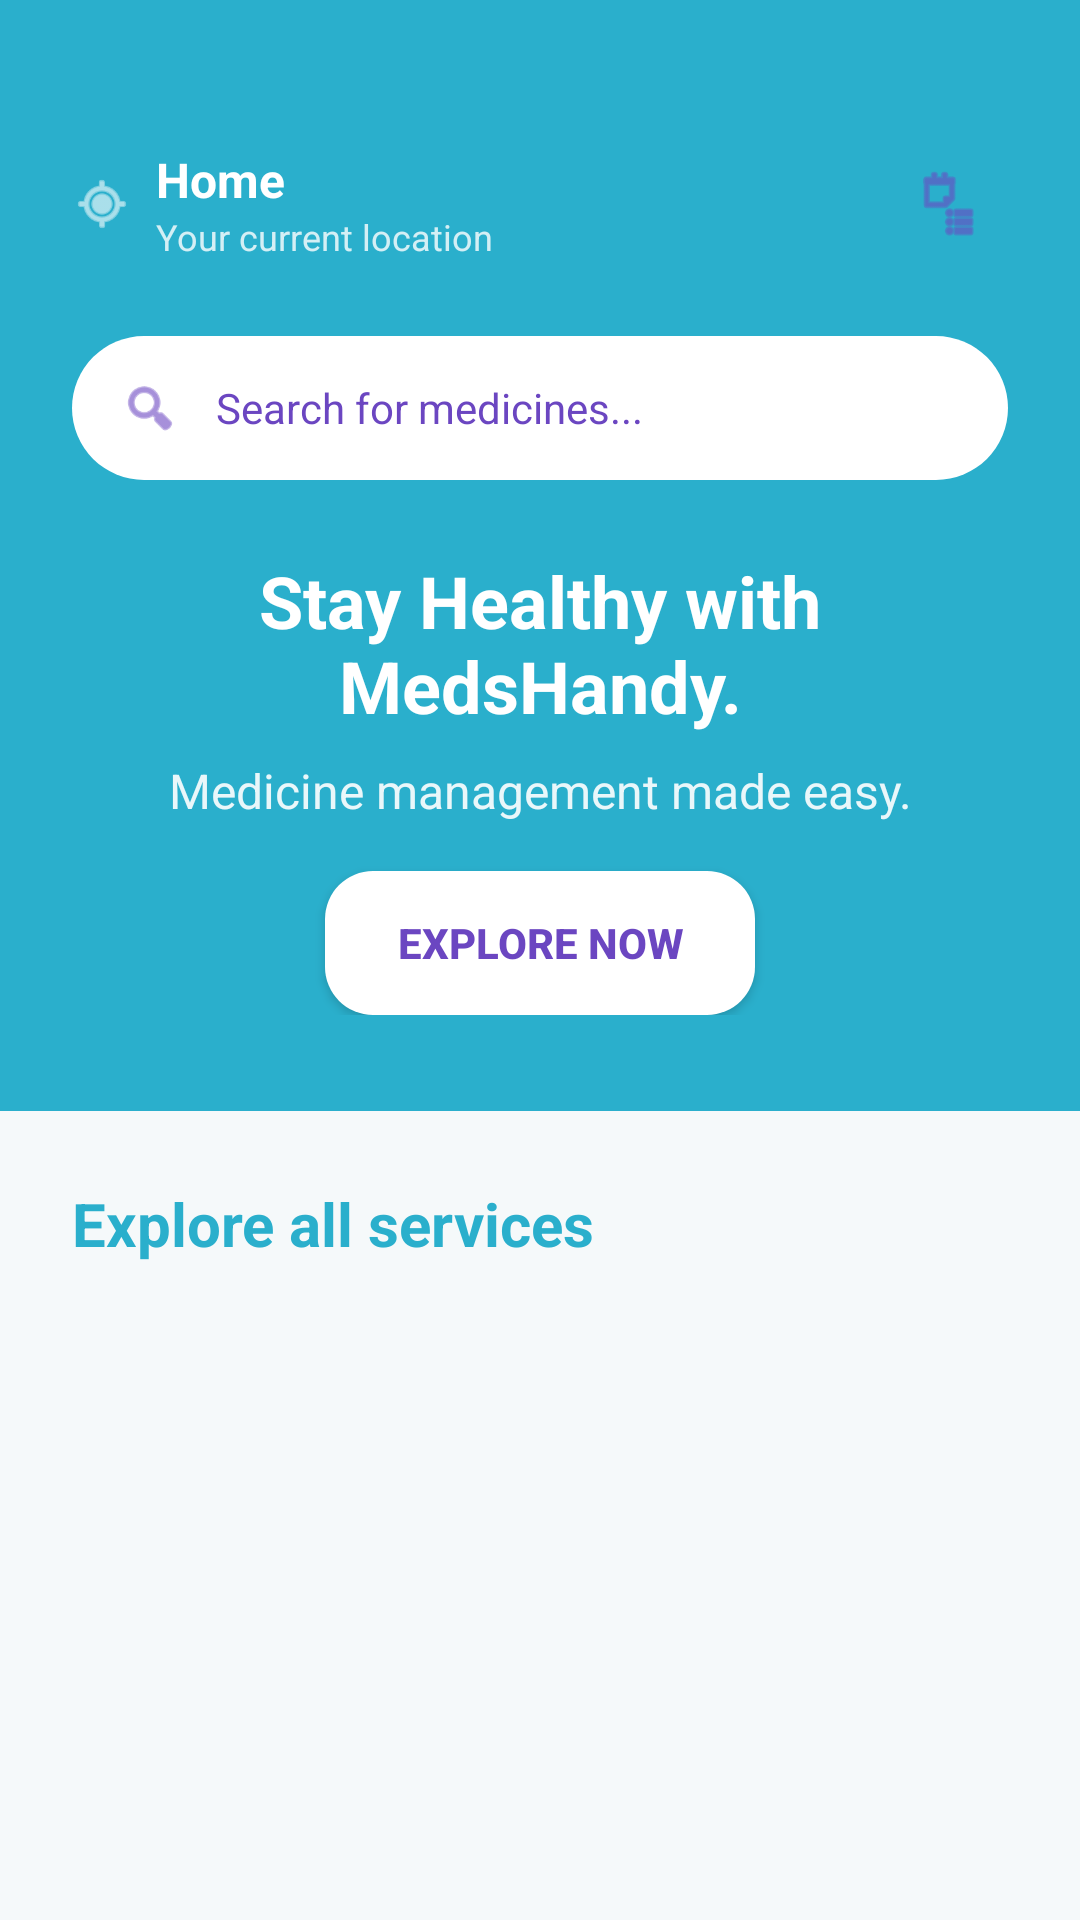

Named icons in this screenshot (1080px×1920px) and their centers, [x,y]:
agenda: [948,203]
mylocation: [102,204]
